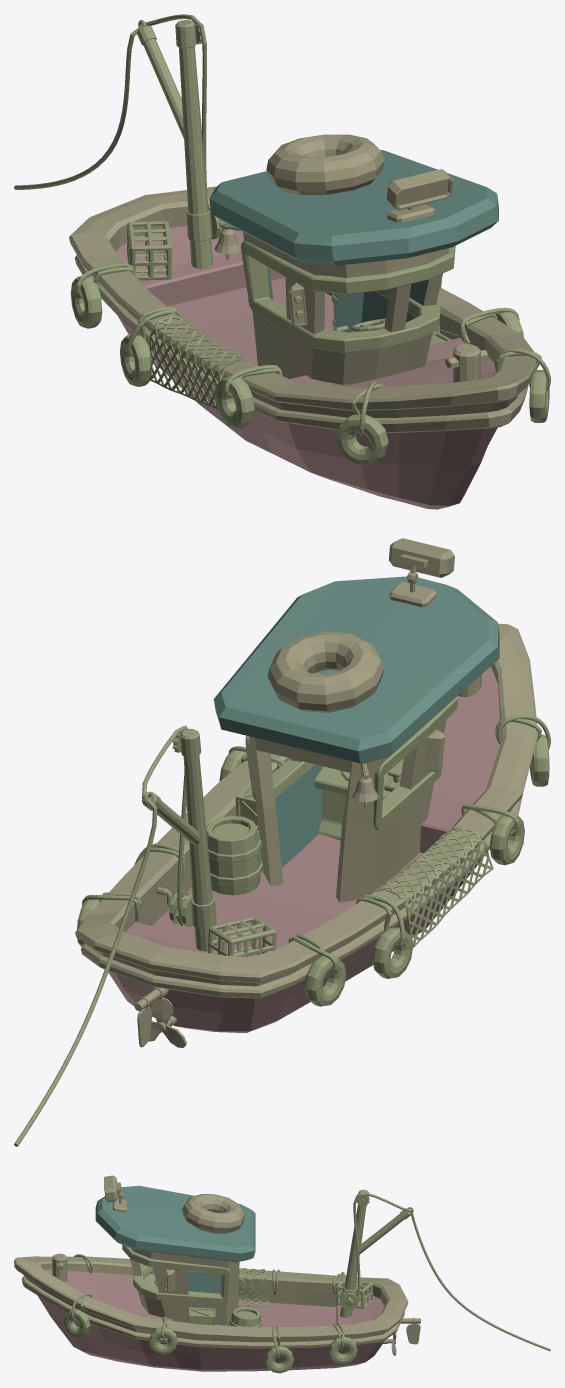
Rendered from Boat2.fbx.
3 renders of one model, top to bottom at view 1: azimuth 30°, elevation 25°; view 2: azimuth 150°, elevation 25°; view 3: azimuth 270°, elevation 25°, orthographic. The views are drawn at different scales.
Parts seen in each view (by area): view 1: Boat1_Boat_base; view 2: Boat1_Boat_base; view 3: Boat1_Boat_base.
Part boxes in pixels (x1,y1,x2,y2): Boat1_Boat_base: (14, 14, 550, 509); Boat1_Boat_base: (14, 538, 550, 1146); Boat1_Boat_base: (14, 1175, 550, 1373).
Bounding box in the file's own units: 3.55 × 3.78 × 10.36.
